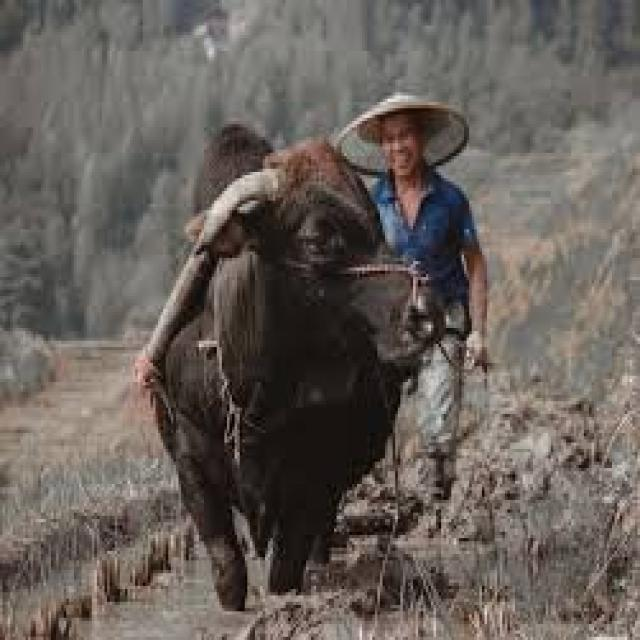Ox: (131, 142, 414, 609)
